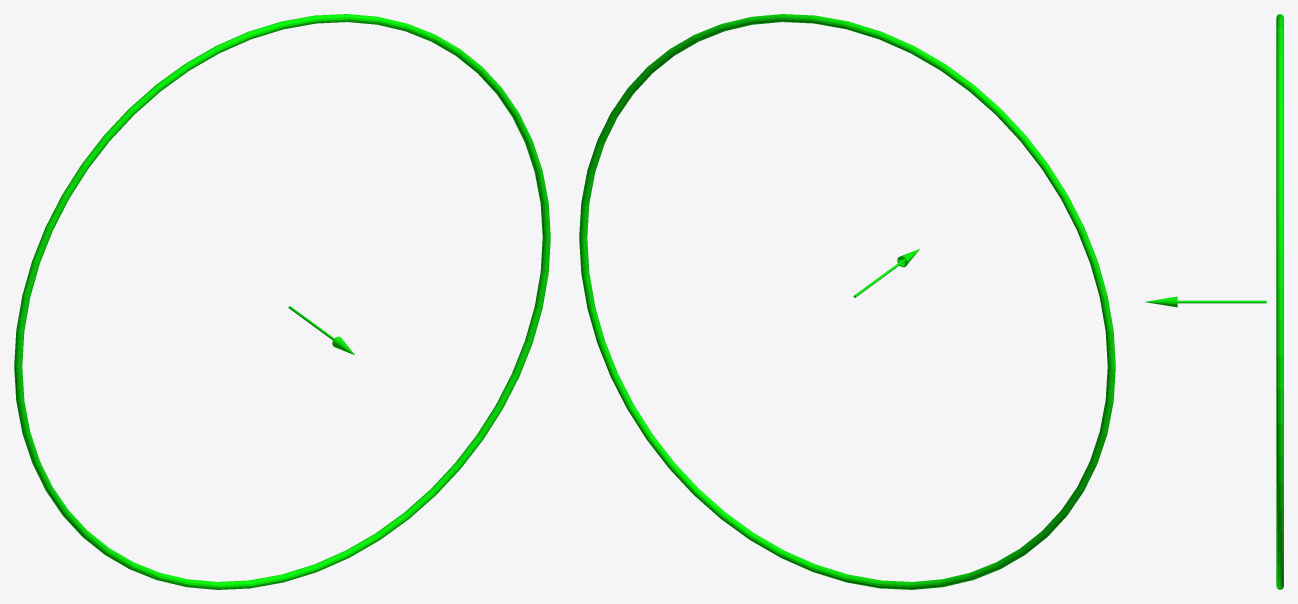
File: Rotate_Y.glb
3 views of the same model, side by side, from view 1: azimuth 30°, elevation 25°; view 2: azimuth 150°, elevation 25°; view 3: azimuth 270°, elevation 25° (orthographic). The views are drawn at different scales.
Parts seen in each view (by area): view 1: Rotate_Y; view 2: Rotate_Y; view 3: Rotate_Y.
Boxes of the visible parts, bbox=[...] form: Rotate_Y: bbox=[14, 14, 550, 589]; Rotate_Y: bbox=[579, 14, 1115, 589]; Rotate_Y: bbox=[1145, 14, 1283, 589].
Bounding box in the file's own units: 0.304 × 0.304 × 0.0738.
